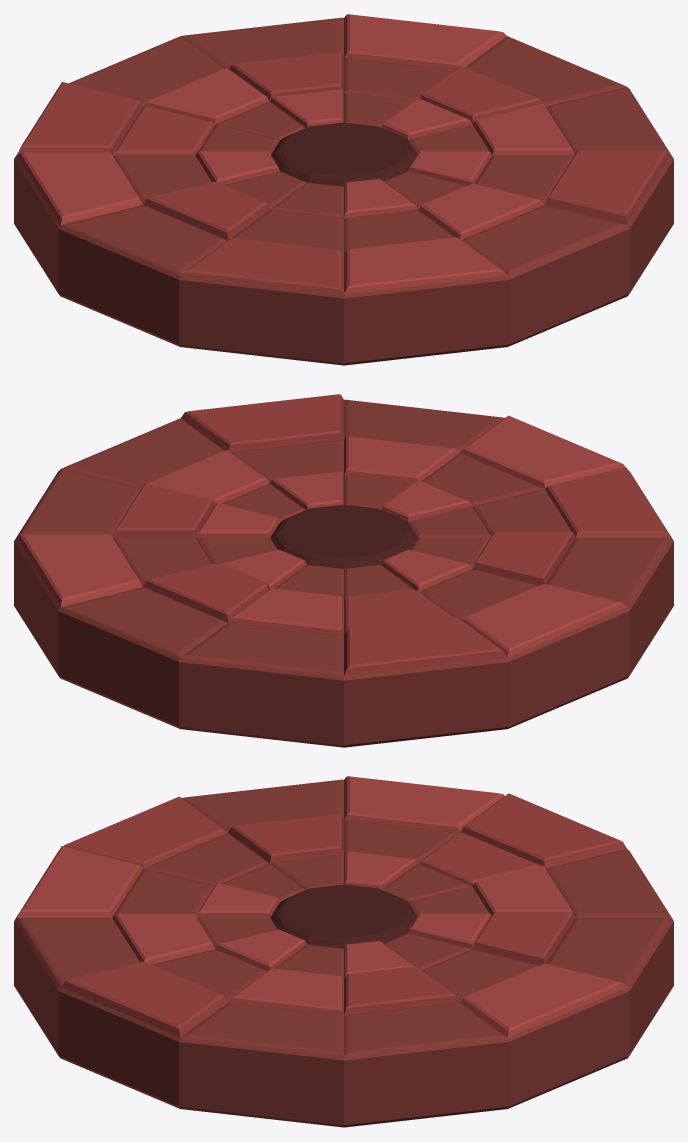
File: Pillar Top Platform.fbx
3 views of the same model, one above another, from view 1: azimuth 30°, elevation 25°; view 2: azimuth 150°, elevation 25°; view 3: azimuth 270°, elevation 25° (orthographic).
Visible parts, largest first — view 1: Pillar Top Platform; view 2: Pillar Top Platform; view 3: Pillar Top Platform.
Part boxes in pixels (x1,y1,x2,y2): Pillar Top Platform: (14,14,673,365); Pillar Top Platform: (14,394,673,747); Pillar Top Platform: (14,776,673,1127).
Bounding box in the file's own units: 265 × 37.85 × 265.
